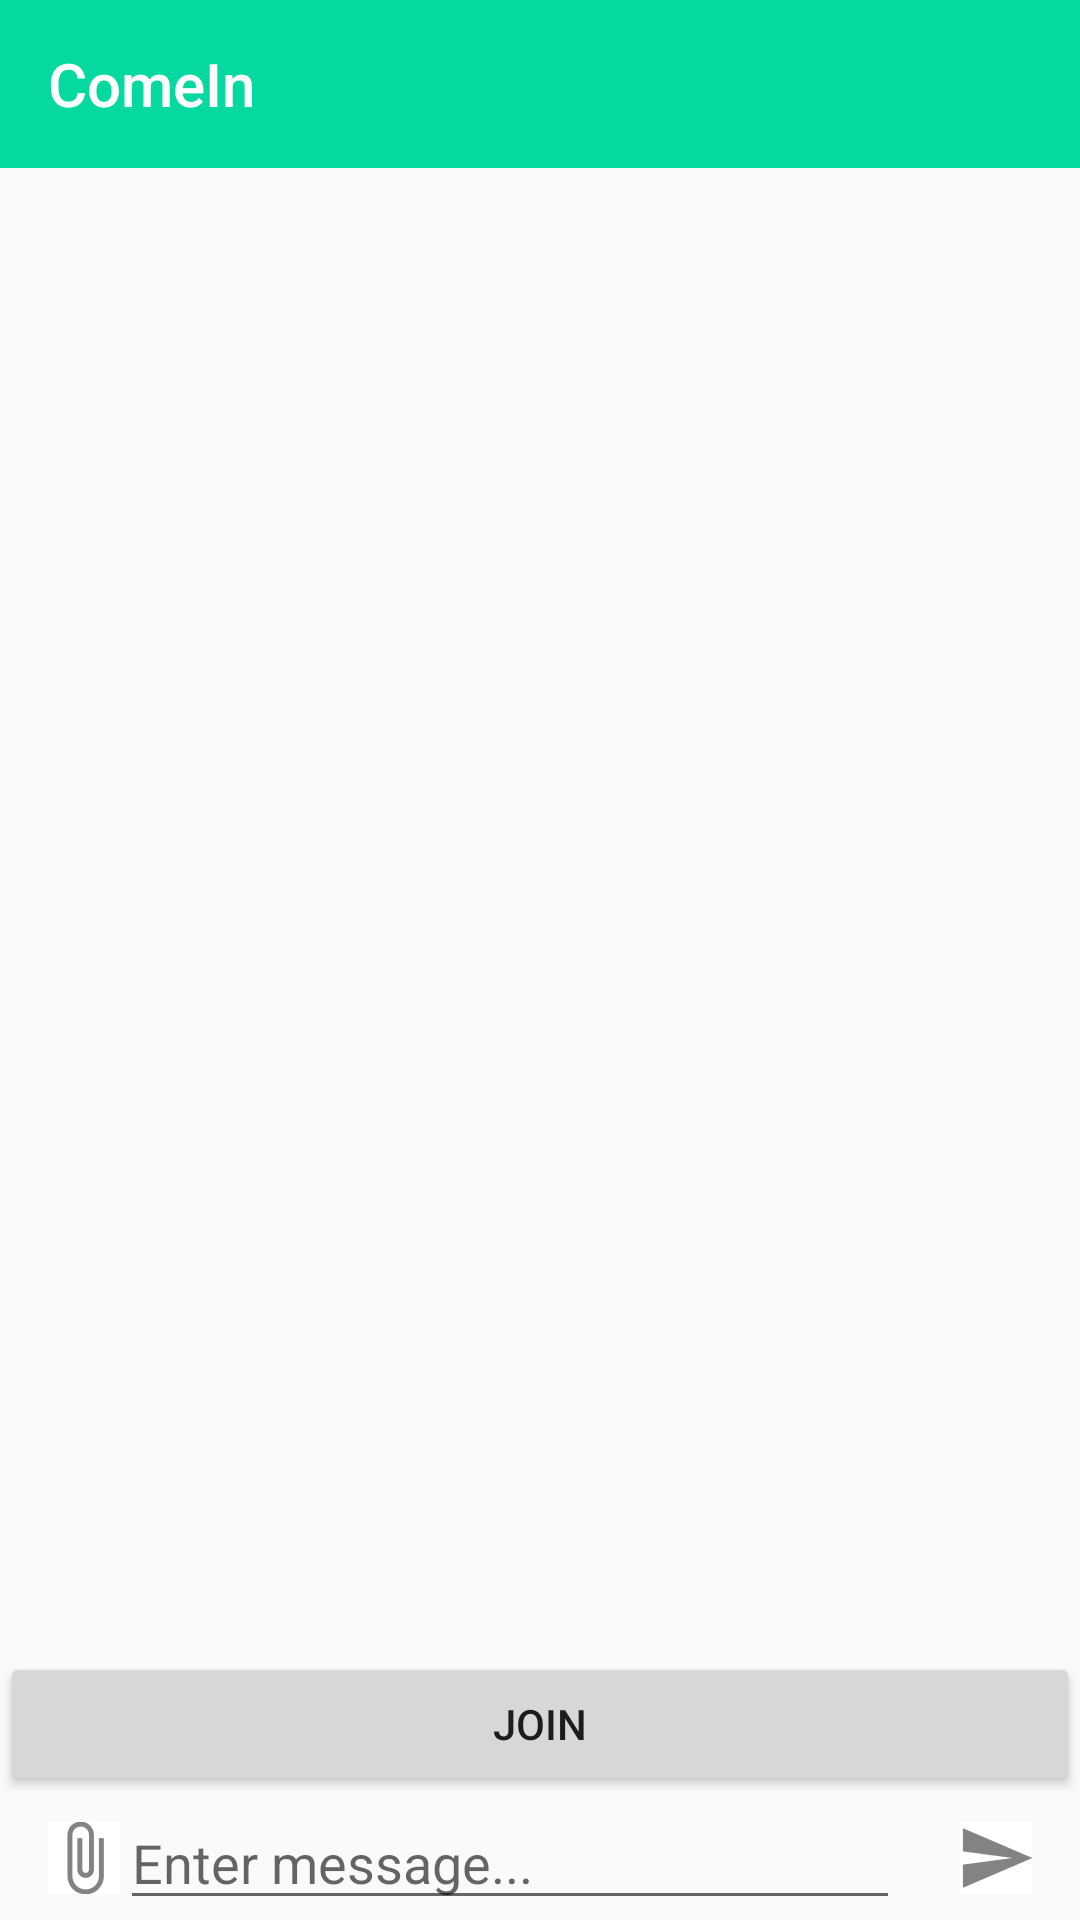

Icon bounding boxes for this 1080×1920 phone screenshot, format box=[x1, y1, x2, y2]:
Attachment: box=[67, 1822, 104, 1894]
Send: box=[963, 1828, 1032, 1888]
